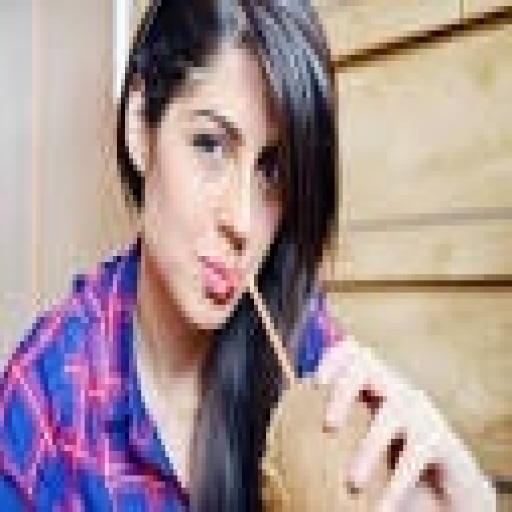drinking: (0, 0, 496, 506)
